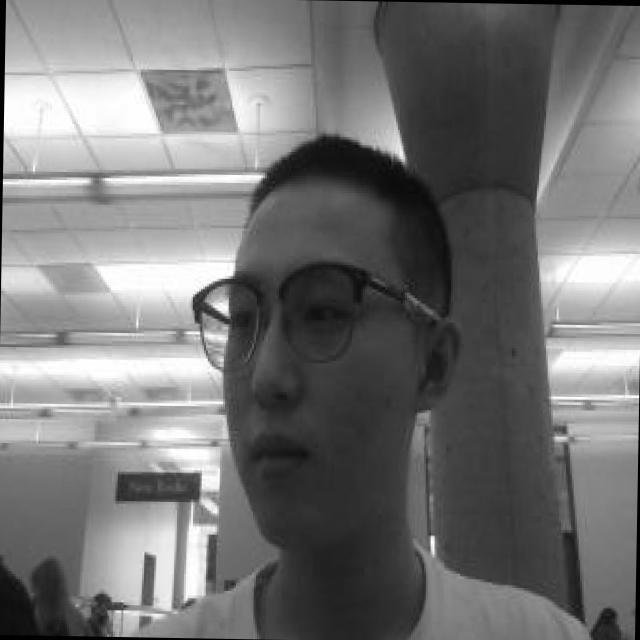Focused: (183, 248, 391, 510)
